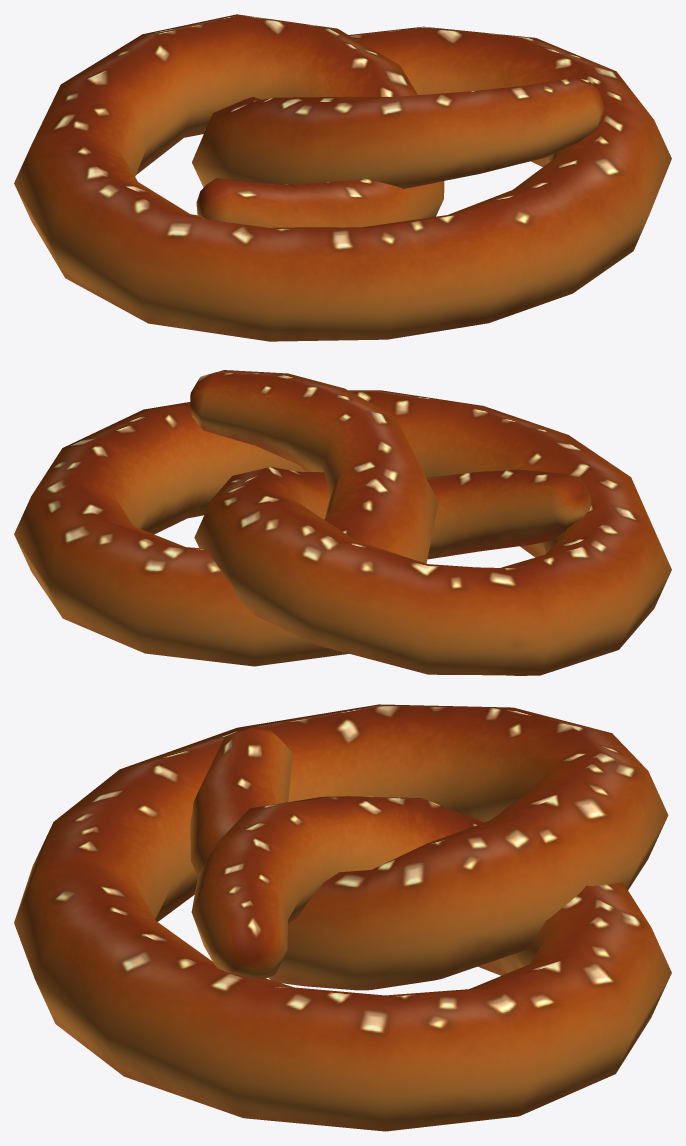
The model's file is Pretzel_02.fbx.
The picture shows the model from 3 angles, top to bottom: view 1: azimuth 30°, elevation 25°; view 2: azimuth 150°, elevation 25°; view 3: azimuth 270°, elevation 25°; orthographic projection. The views are drawn at different scales.
Parts seen in each view (by area): view 1: Pretzel_02; view 2: Pretzel_02; view 3: Pretzel_02.
Part boxes in pixels (left/top/right/bottom): Pretzel_02: left=14, top=14, right=671, bottom=341; Pretzel_02: left=14, top=370, right=671, bottom=675; Pretzel_02: left=14, top=704, right=671, bottom=1131.
Bounding box in the file's own units: 69.95 × 18.83 × 56.97.
